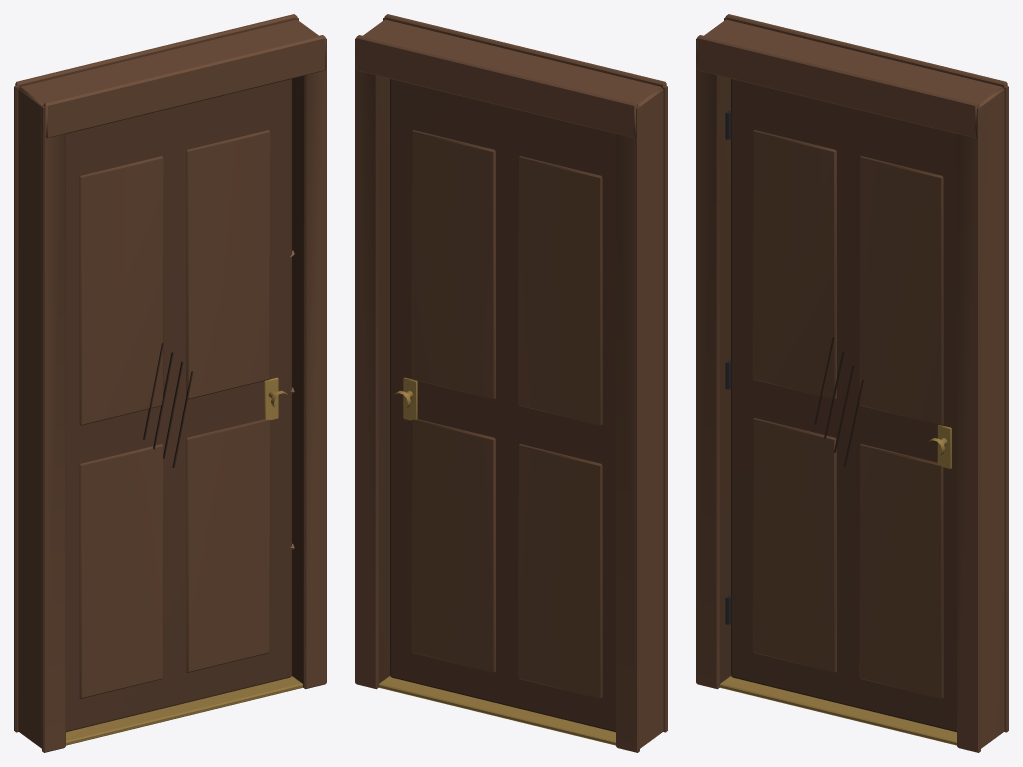
File: door_splintered.glb
The picture shows the model from 3 angles, left to right: view 1: azimuth 30°, elevation 25°; view 2: azimuth 150°, elevation 25°; view 3: azimuth 330°, elevation 25°; orthographic projection.
Visible parts, largest first — view 1: door_leaf, door_splintered; view 2: door_leaf, door_splintered; view 3: door_leaf, door_splintered.
Boxes of the visible parts, x1=… form: door_leaf: x1=66, y1=79, x2=294, y2=732; door_splintered: x1=14, y1=14, x2=326, y2=752; door_leaf: x1=390, y1=79, x2=615, y2=732; door_splintered: x1=355, y1=14, x2=667, y2=752; door_leaf: x1=725, y1=79, x2=956, y2=732; door_splintered: x1=696, y1=14, x2=1008, y2=752.
Size of the model in its own units: 1.01 by 2.21 by 0.196.
